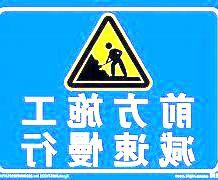sign: (2, 2, 216, 176)
